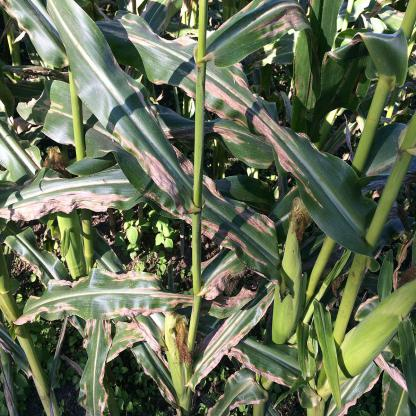corn leaf blight: (98, 10, 383, 259), (46, 0, 196, 243), (11, 266, 265, 317), (1, 164, 164, 225)
